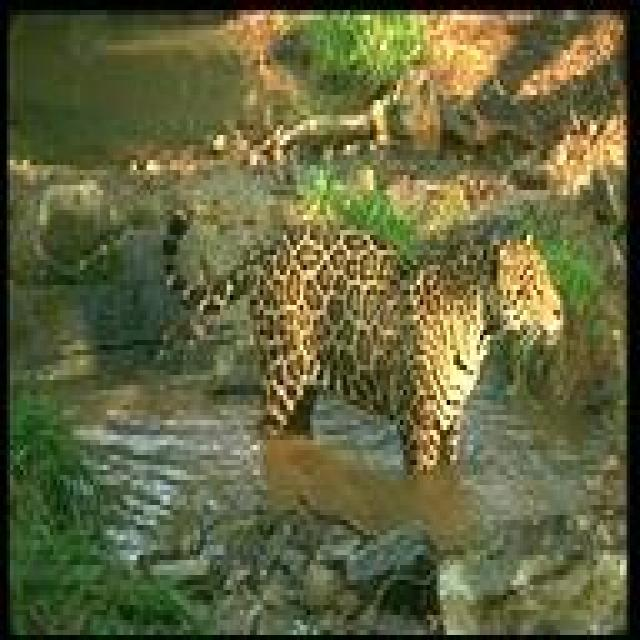Leopard: (167, 211, 565, 463)
